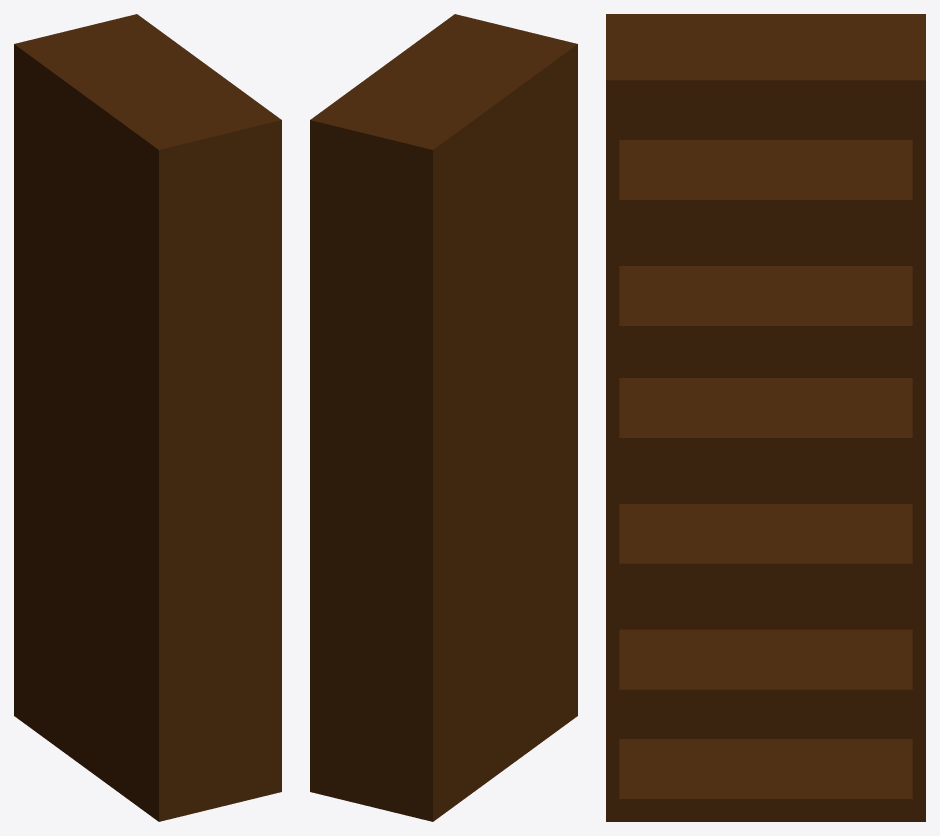
The model's file is bookShelf.glb.
The picture shows the model from 3 angles, left to right: view 1: azimuth 30°, elevation 25°; view 2: azimuth 150°, elevation 25°; view 3: azimuth 270°, elevation 25°; orthographic projection. The views are drawn at different scales.
Visible parts, largest first — view 1: BookShelf; view 2: BookShelf; view 3: BookShelf.
Boxes of the visible parts, x1=… form: BookShelf: x1=14, y1=14, x2=281, y2=821; BookShelf: x1=310, y1=14, x2=577, y2=821; BookShelf: x1=606, y1=14, x2=925, y2=821.
Bounding box in the file's own units: 0.953 × 4.97 × 1.94.
